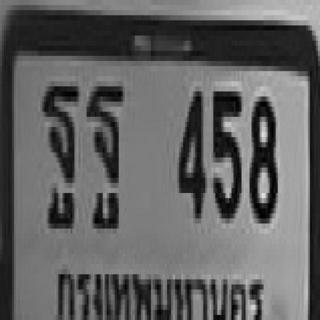A16: (40, 81, 79, 233), (85, 81, 123, 232)
N04: (177, 86, 205, 220)
N05: (211, 86, 243, 220)
N08: (248, 91, 279, 225)
